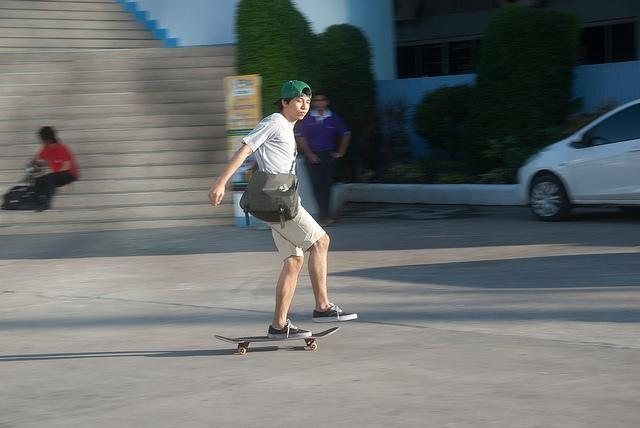car: (518, 100, 640, 220)
